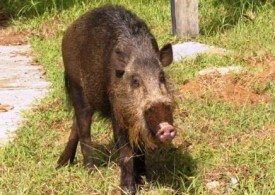boar: (52, 2, 179, 193)
